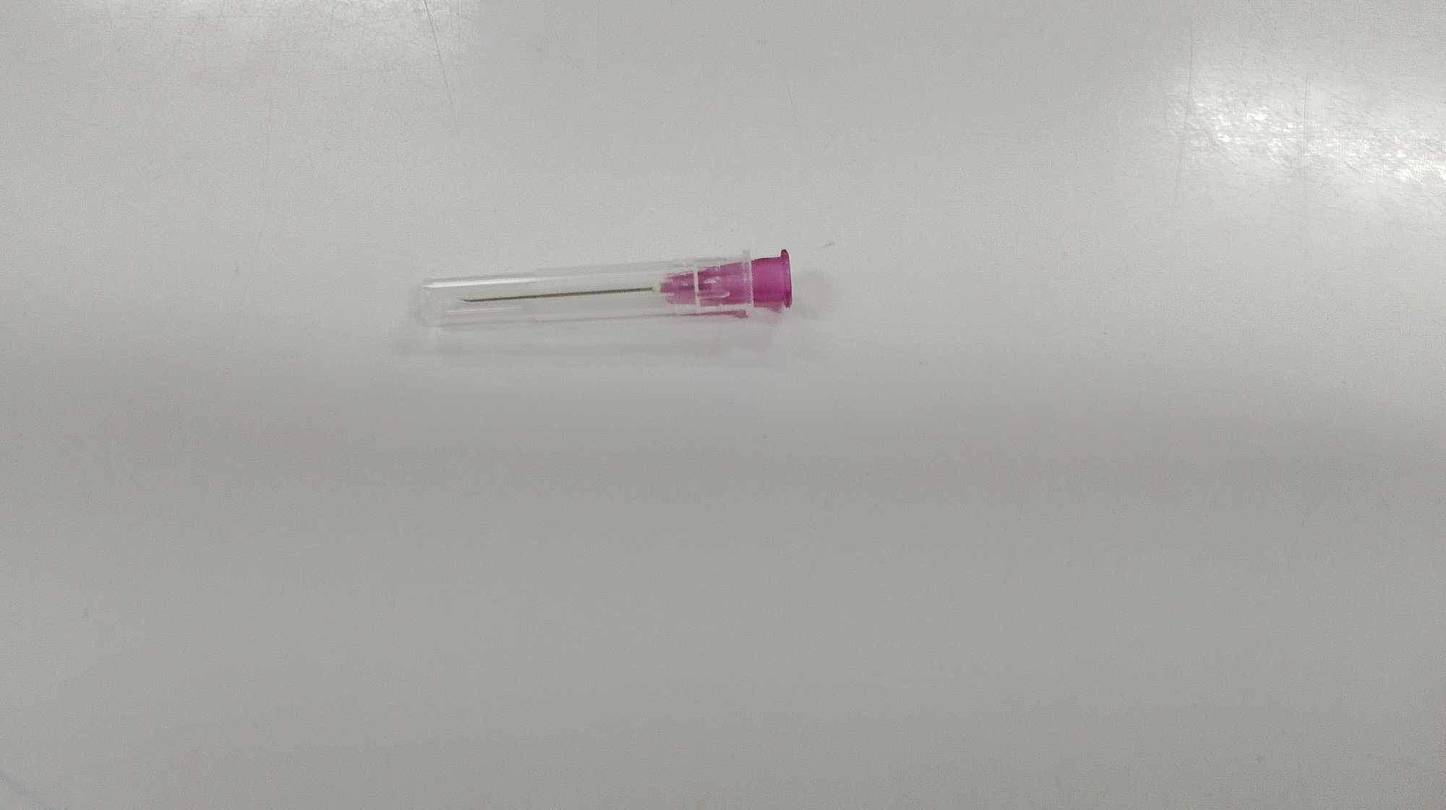Sharps: (414, 246, 794, 328)
